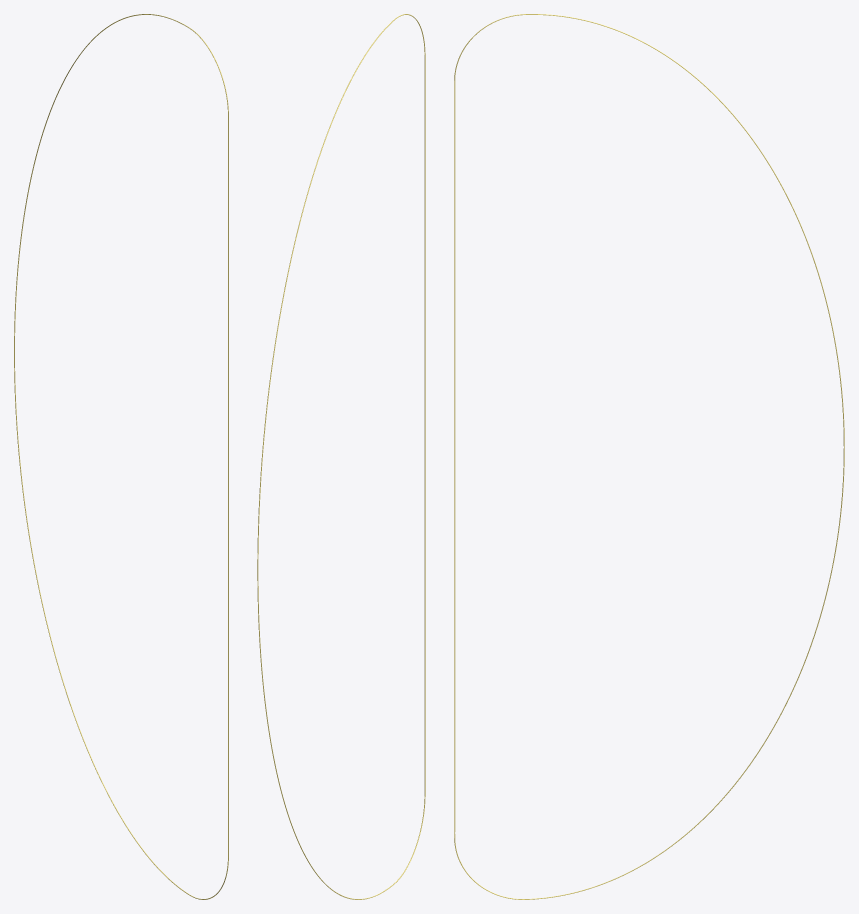
The model's file is coil_coil_6_wire.gltf.
The picture shows the model from 3 angles, left to right: view 1: azimuth 30°, elevation 25°; view 2: azimuth 150°, elevation 25°; view 3: azimuth 270°, elevation 25°; orthographic projection. The views are drawn at different scales.
Parts seen in each view (by area): view 1: Renderer Node; view 2: Renderer Node; view 3: Renderer Node.
Boxes of the visible parts, x1,y1,x2,y2 form: Renderer Node: [14, 14, 228, 899]; Renderer Node: [257, 14, 425, 899]; Renderer Node: [454, 14, 844, 899].
Bounding box in the file's own units: 0.0038 × 0.1321 × 0.0528.
